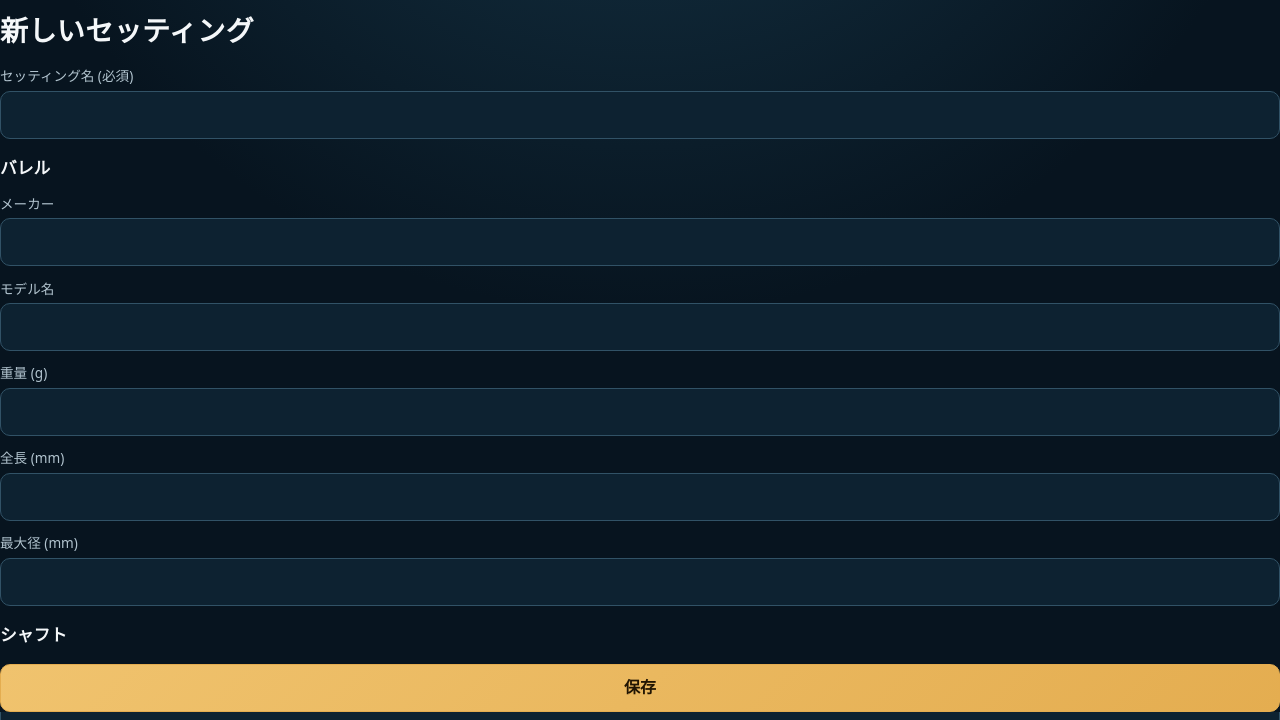
Scenario: EquipmentEditPage (セッティング保存) › 名前が空なら保存せずエラーを表示し、画面遷移しない
Click the button "保存" at (640, 688), box [0,664,1279,712]
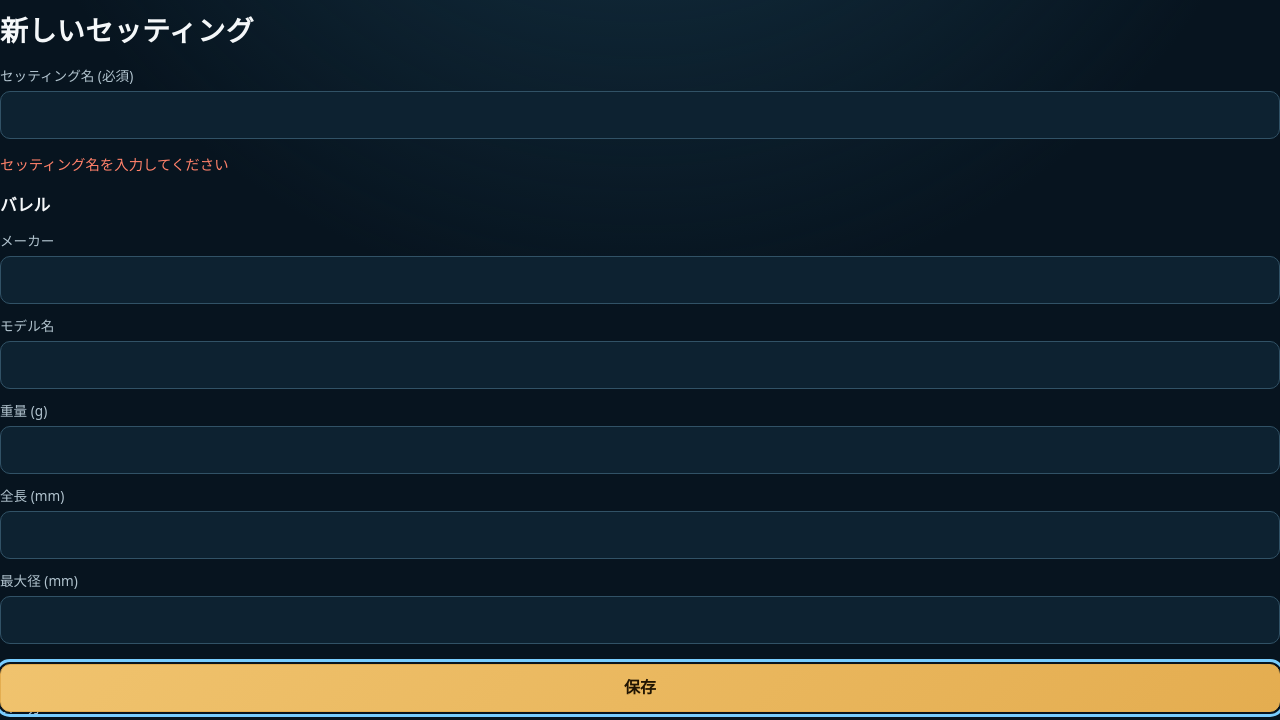
Check: the text "セッティング名を入力してください" is shown, box [0,155,228,174]
